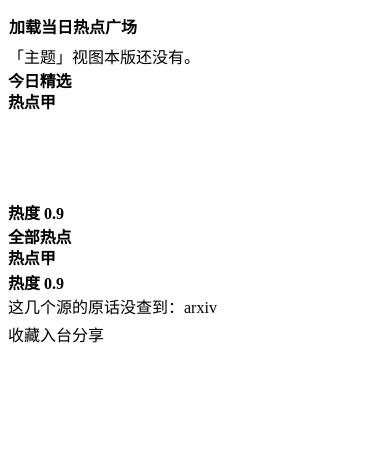
Scenario: DemoFlow 端到端可点击流 › 广场→点簇→工作台+combo→主题→选主题→Gate（路由到进度页）
This screenshot has width=390, height=472.
Earlier steps of the test are not shown.
点簇 → workbench + combo 入口
Click the element showing "热点甲 热度 0.9" at (32, 102), box [8,94,64,222]
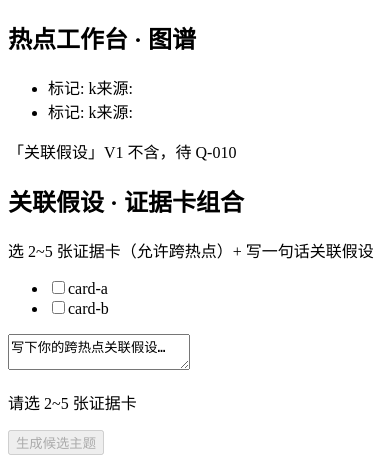
Check: the element that starts with "关联假设 · 证据卡组合" is shown, box [8,190,374,455]
combo：选 2 卡（跨簇 c1+c2）+ 假设 → 提交
Click the checkbox labelled "card-a" at (58, 287), box [52,281,65,294]
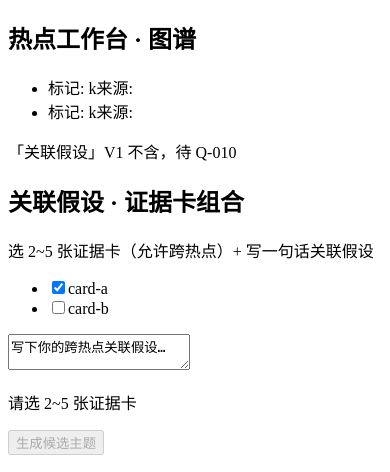
Click the checkbox labelled "card-b" at (58, 307), box [52,301,65,314]
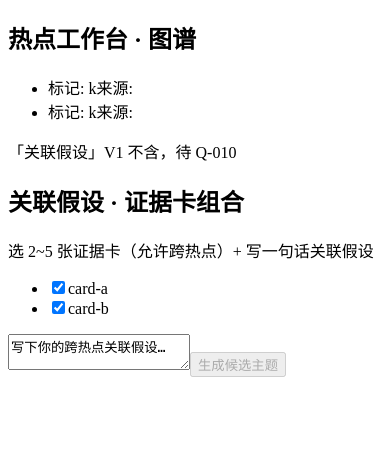
Type "跨热点假设" into the text box with placeholder "写下你的跨热点关联假设…" at (99, 352), box [8,334,190,370]
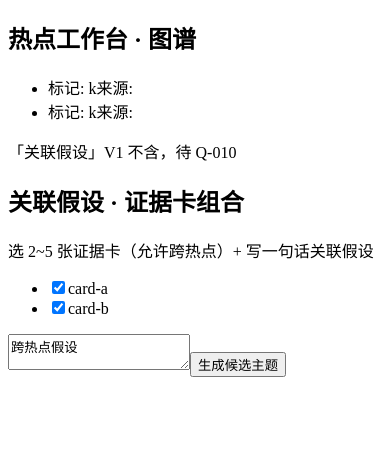
Click the button "生成候选主题" at (238, 364), box [190,352,286,377]
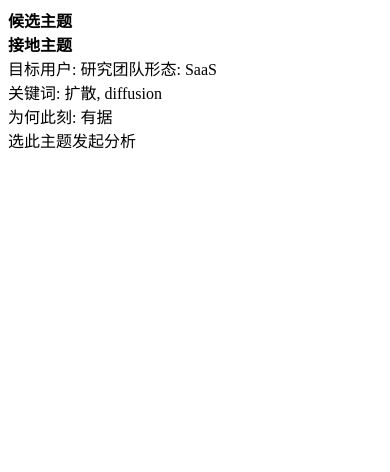
Check: the list item is shown, box [8,37,217,152]
Click the button "选此主题发起分析" at (72, 140), box [8,128,136,152]
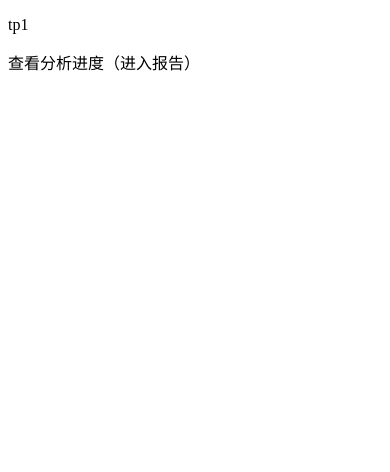
Check: the text "tp1" is shown, box [8,16,28,33]
